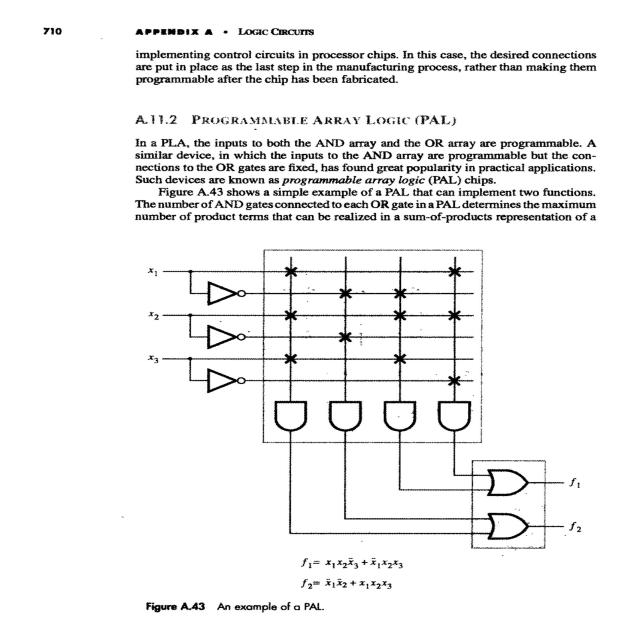diagram: (126, 234, 640, 623)
